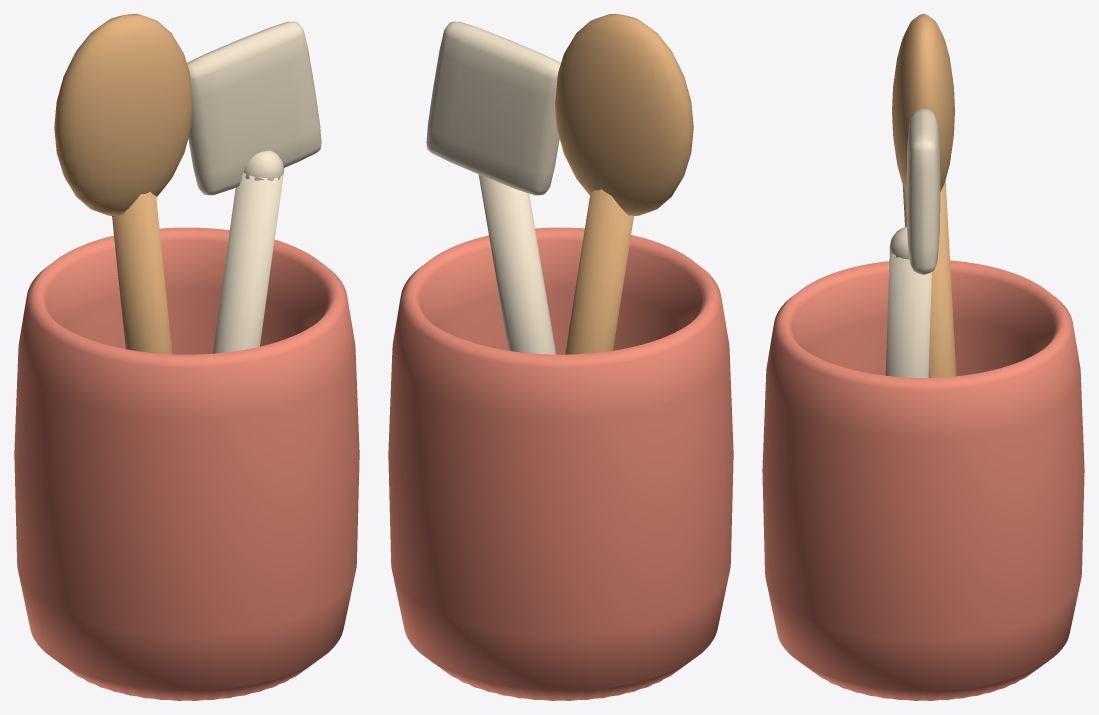
File: knives_b.glb
3 views of the same model, side by side, from view 1: azimuth 30°, elevation 25°; view 2: azimuth 150°, elevation 25°; view 3: azimuth 270°, elevation 25° (orthographic). The views are drawn at different scales.
Parts seen in each view (by area): view 1: body; view 2: body; view 3: body.
Part boxes in pixels (x1,y1,x2,y2): body: [14, 14, 359, 700]; body: [388, 14, 733, 700]; body: [762, 14, 1084, 700].
Bounding box in the file's own units: 0.1327 × 0.277 × 0.1327.
